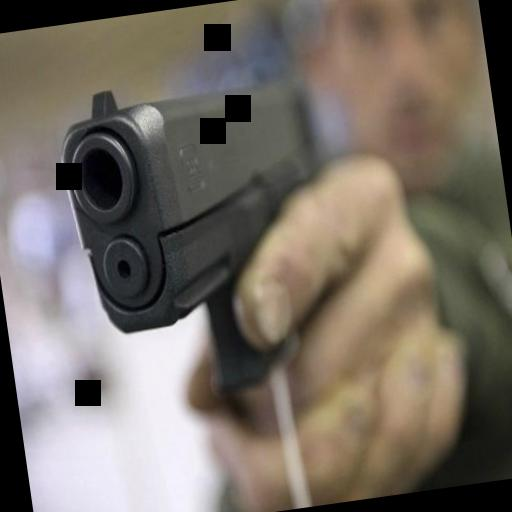Handgun: (48, 58, 343, 408)
